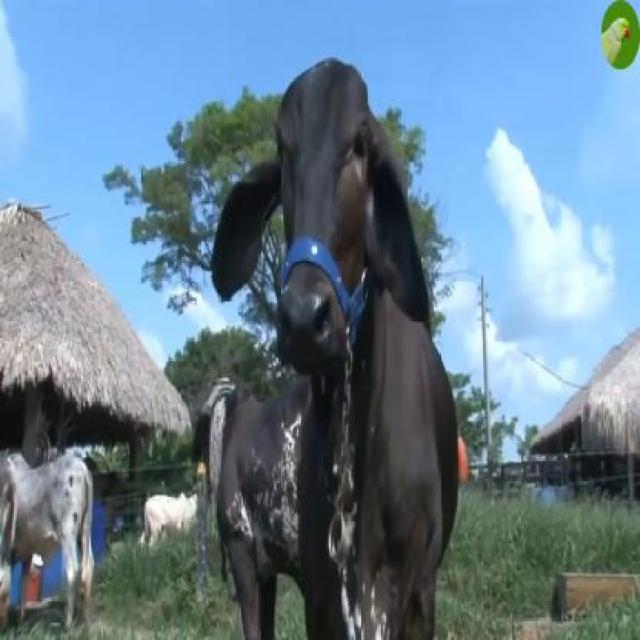Cow: (214, 59, 460, 638)
